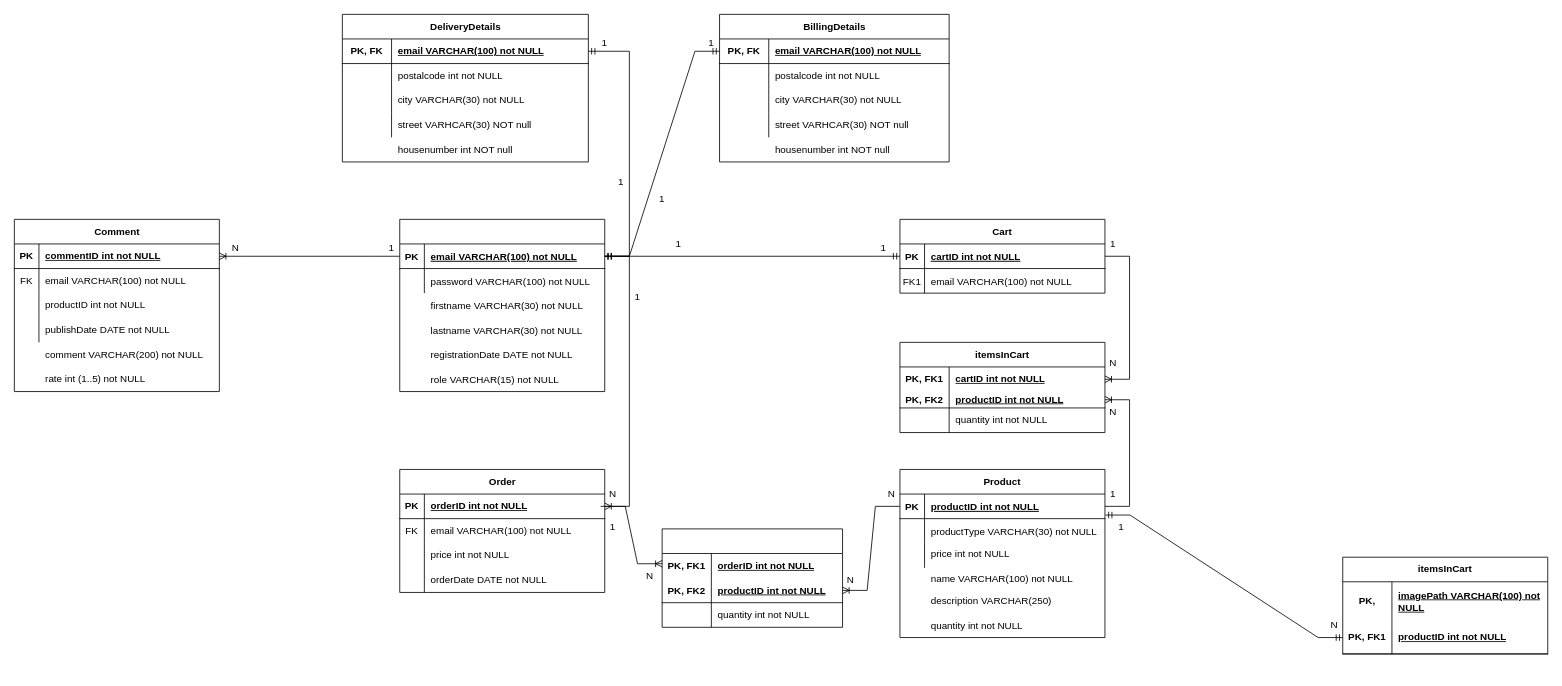
Some shapes in this 1562 by 686 pixel diagram are drawn without their labels. Each missing label, with the box of its shape:
orderedItems: (661, 528, 843, 627)
User: (399, 219, 605, 392)
